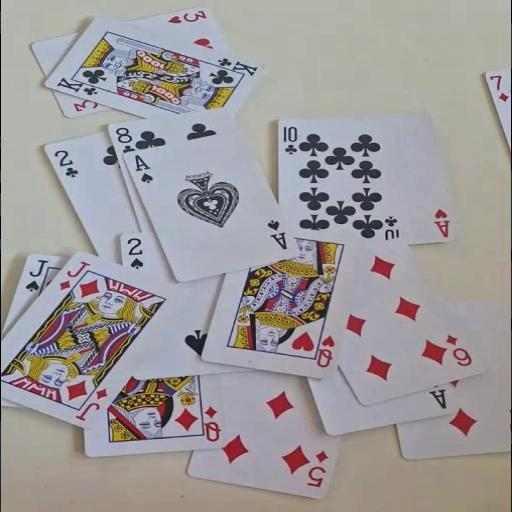10: (281, 124, 299, 156)
2: (50, 148, 80, 178), (126, 236, 146, 270)
3: (165, 8, 208, 25)
5: (304, 448, 331, 489)
6: (443, 332, 474, 368)
7: (487, 73, 509, 103)
8: (113, 125, 135, 154)
A: (264, 217, 288, 251), (432, 206, 452, 238)
J: (72, 385, 110, 422), (56, 259, 91, 291), (23, 258, 49, 292)
K: (53, 75, 100, 96), (215, 56, 259, 76)
Q: (200, 404, 222, 442), (314, 334, 336, 369)
